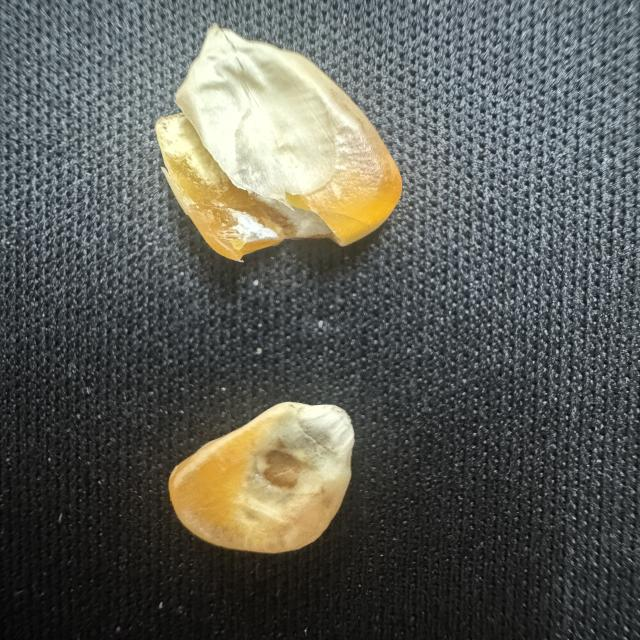Bad-Seed: (132, 18, 408, 267), (157, 391, 362, 568)
